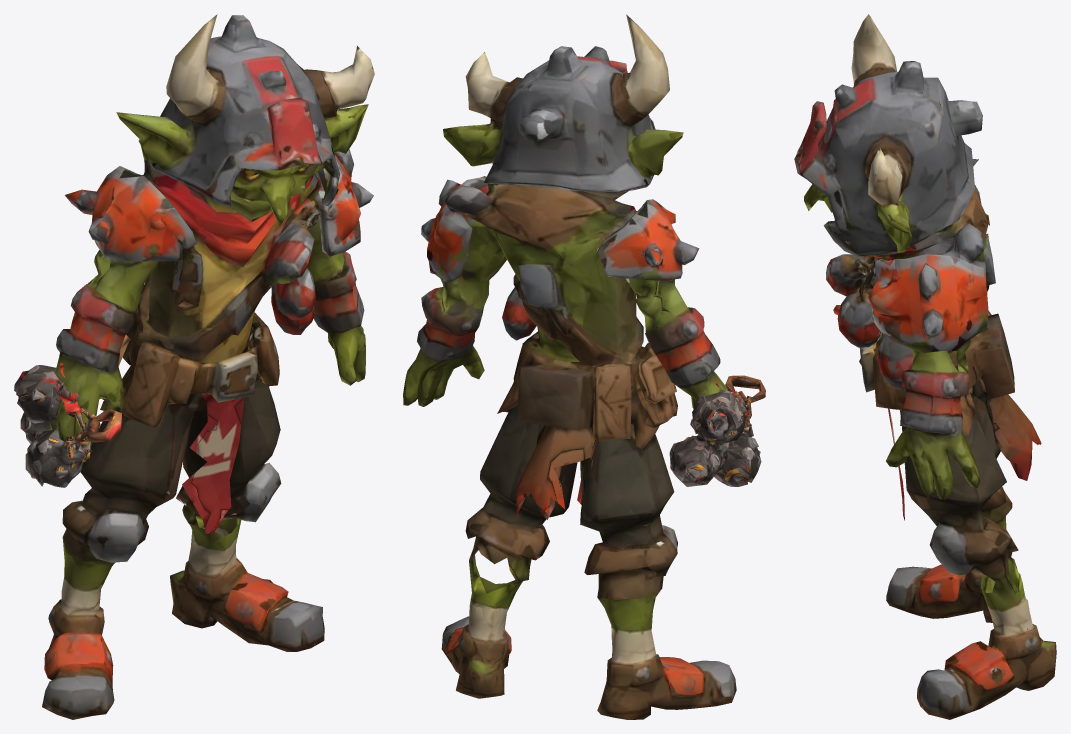
File: grenadier.glb
3 views of the same model, side by side, from view 1: azimuth 30°, elevation 25°; view 2: azimuth 150°, elevation 25°; view 3: azimuth 270°, elevation 25° (orthographic). The views are drawn at different scales.
Visible parts, largest first — view 1: grenadier; view 2: grenadier; view 3: grenadier.
Boxes of the visible parts, box(x1,y1,x2,y2) form: grenadier: box(14, 14, 374, 719); grenadier: box(403, 14, 765, 719); grenadier: box(794, 14, 1056, 719).
Bounding box in the file's own units: 0.7103 × 1.32 × 0.4929.
Materials: 2 (2 with a texture image).
